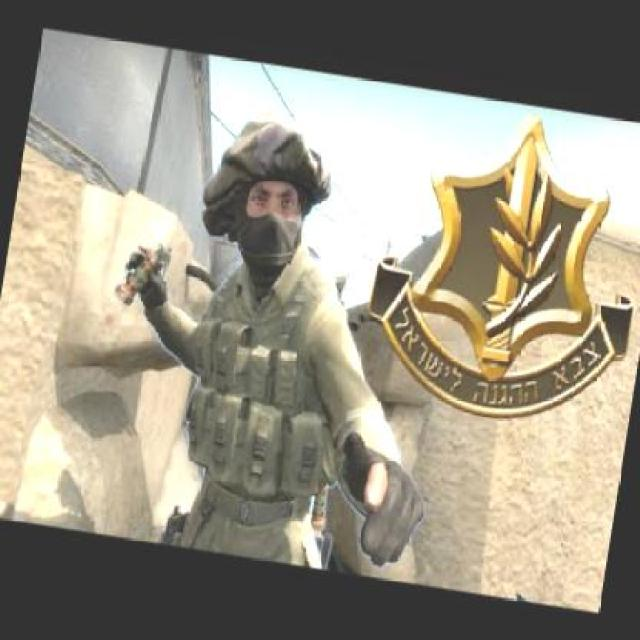MIL_Pax: (77, 83, 483, 583)
